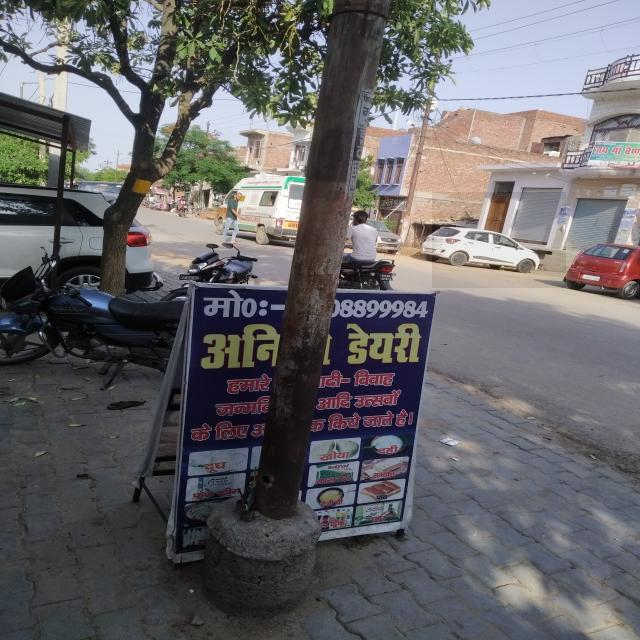Car: (432, 192, 566, 288)
